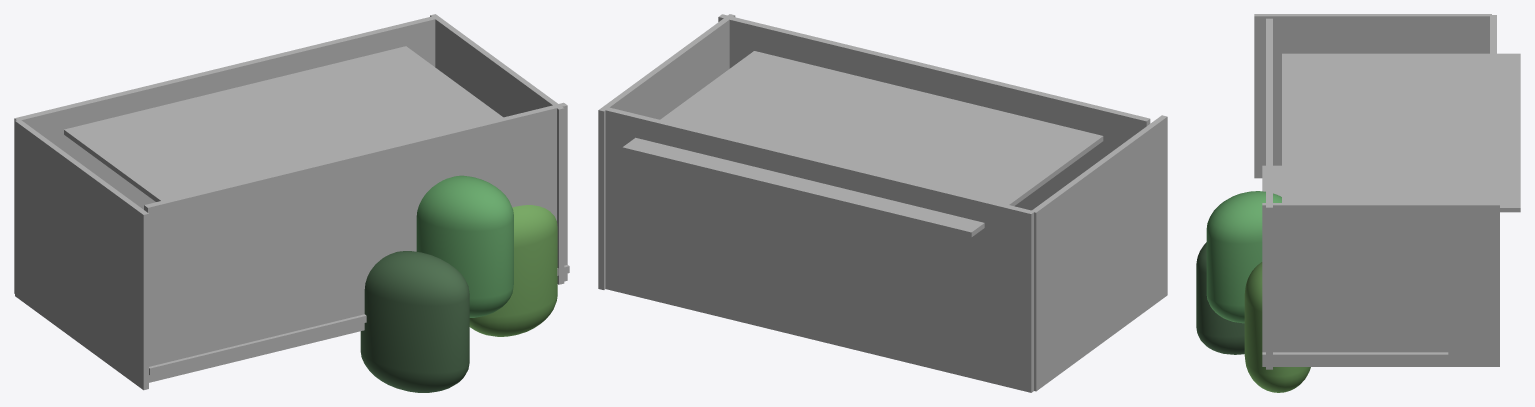
The picture shows the model from 3 angles, left to right: view 1: azimuth 30°, elevation 25°; view 2: azimuth 150°, elevation 25°; view 3: azimuth 270°, elevation 25°; orthographic projection. The views are drawn at different scales.
Visible parts, largest first — view 1: Cube__1__22, Cube__5__28, Cube__4__28, Capsule__4__23, Cube__2__24, Capsule__6__23, Cube__3__23, Capsule__2__30, Cube_25; view 2: Cube__2__24, Cube__5__28, Cube__4__28, Cube__1__22, Cube__3__23; view 3: Cube__3__23, Cube__5__28, Cube__4__28, Capsule__6__23, Capsule__2__30, Cube__1__22, Capsule__4__23, Cube_25, Cube__2__24.
Part boxes in pixels (x1=…): Cube__1__22: x1=144, y1=102, x2=567, y2=382; Cube__5__28: x1=64, y1=46, x2=503, y2=201; Cube__4__28: x1=15, y1=119, x2=148, y2=390; Capsule__4__23: x1=360, y1=251, x2=469, y2=392; Cube__2__24: x1=14, y1=16, x2=437, y2=293; Capsule__6__23: x1=416, y1=175, x2=513, y2=317; Cube__3__23: x1=430, y1=14, x2=564, y2=284; Capsule__2__30: x1=469, y1=205, x2=557, y2=336; Cube_25: x1=149, y1=264, x2=569, y2=375; Cube__2__24: x1=604, y1=107, x2=1034, y2=392; Cube__5__28: x1=622, y1=51, x2=1103, y2=237; Cube__4__28: x1=1031, y1=115, x2=1167, y2=391; Cube__1__22: x1=718, y1=14, x2=1150, y2=210; Cube__3__23: x1=598, y1=14, x2=735, y2=289; Cube__3__23: x1=1262, y1=203, x2=1499, y2=366; Cube__5__28: x1=1282, y1=53, x2=1520, y2=212; Cube__4__28: x1=1254, y1=14, x2=1491, y2=178; Capsule__6__23: x1=1206, y1=191, x2=1281, y2=323; Capsule__2__30: x1=1244, y1=262, x2=1310, y2=392; Cube__1__22: x1=1266, y1=18, x2=1272, y2=369; Capsule__4__23: x1=1196, y1=242, x2=1244, y2=354; Cube_25: x1=1262, y1=165, x2=1448, y2=360; Cube__2__24: x1=1490, y1=15, x2=1496, y2=203.
Size of what is drawn, in the model's own units: 9075 by 4729 by 6421.
